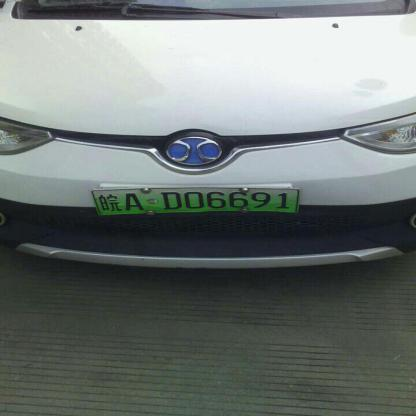lp: (92, 187, 300, 215)
